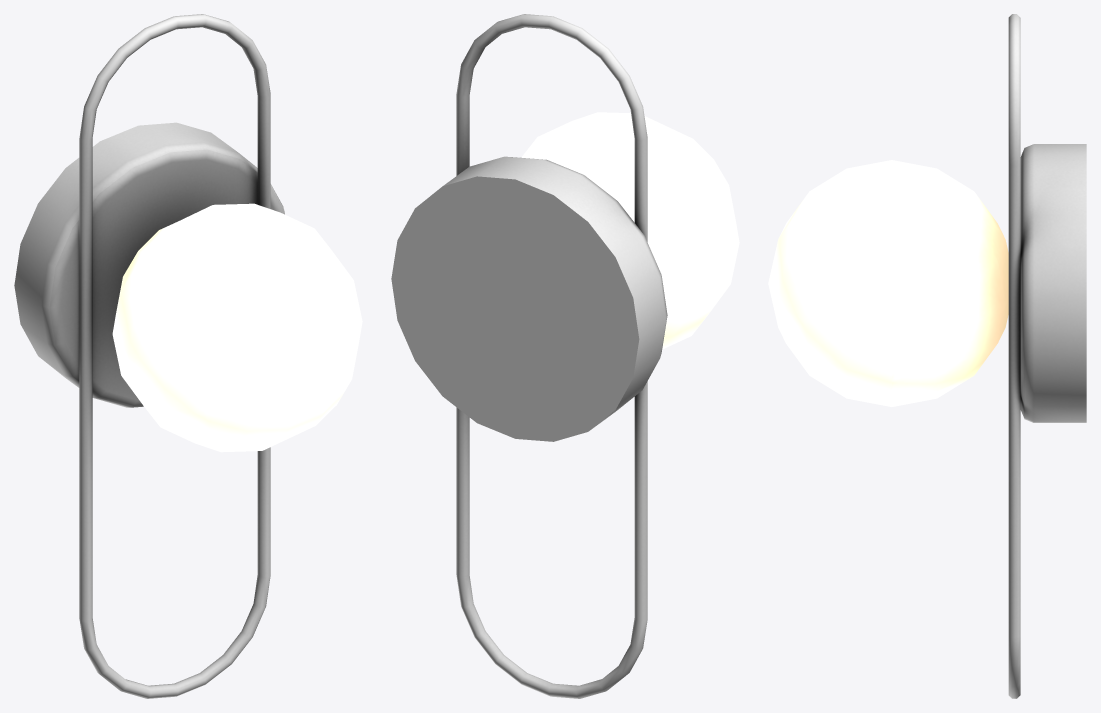
File: wall-lamp-2.glb
The picture shows the model from 3 angles, left to right: view 1: azimuth 30°, elevation 25°; view 2: azimuth 150°, elevation 25°; view 3: azimuth 270°, elevation 25°; orthographic projection.
Parts seen in each view (by area): view 1: Lamp.004, Base.004; view 2: Base.004, Lamp.004; view 3: Lamp.004, Base.004.
Part boxes in pixels (x1=…): Lamp.004: x1=112, y1=203, x2=362, y2=452; Base.004: x1=14, y1=14, x2=284, y2=698; Base.004: x1=391, y1=14, x2=667, y2=698; Lamp.004: x1=521, y1=112, x2=739, y2=349; Lamp.004: x1=768, y1=160, x2=1008, y2=406; Base.004: x1=1008, y1=14, x2=1086, y2=698.
Size of the model in its own units: 0.2004 by 0.5241 by 0.227.
Materials: 1 (1 with a texture image).
